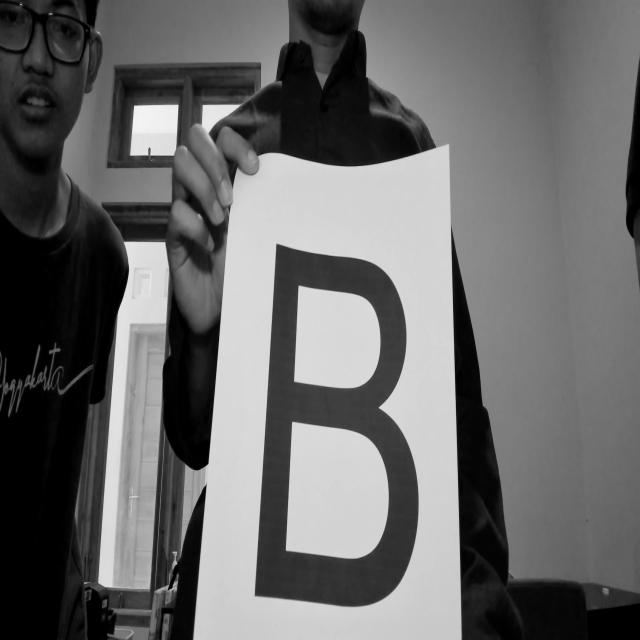b: (244, 219, 433, 626)
